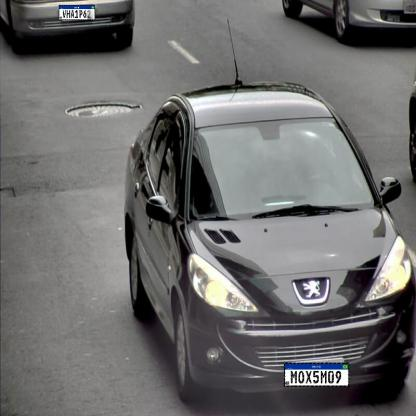PlacaM: (284, 362, 349, 387), (59, 5, 95, 20)
